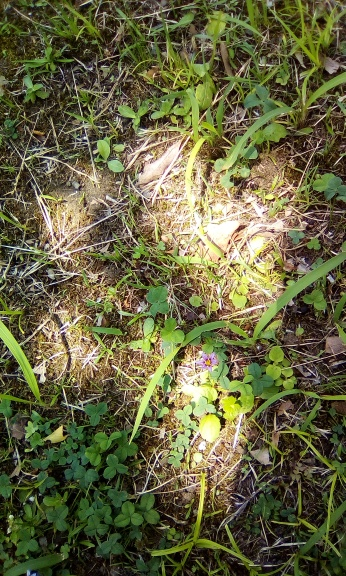4leaf: (145, 285, 170, 318)
